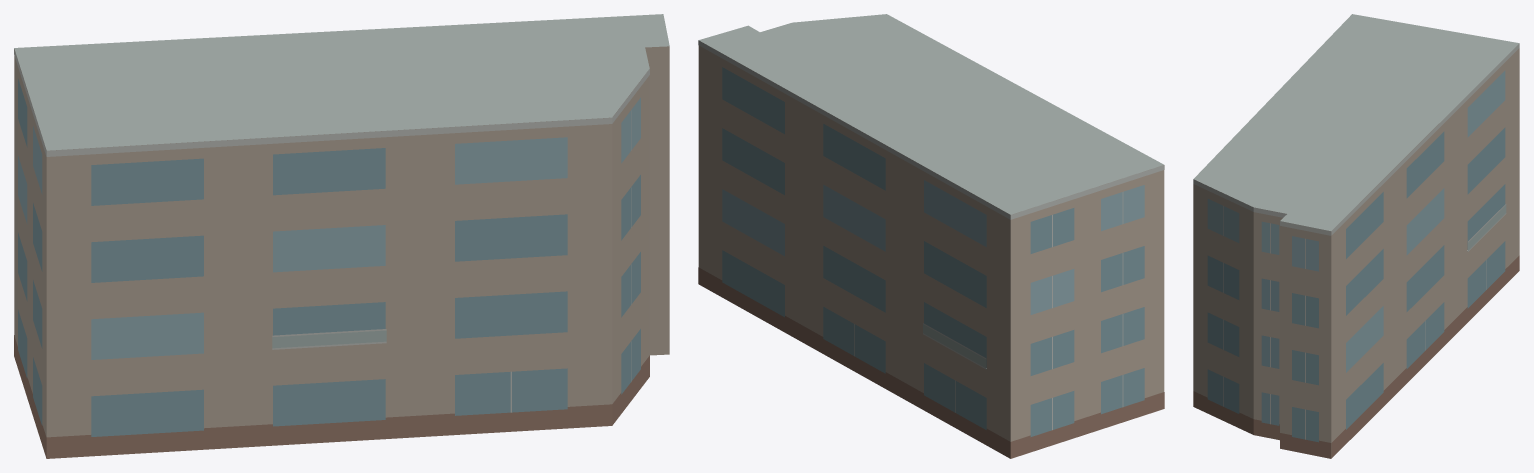
The model's file is survey-upis-32668708.glb.
3 views of the same model, side by side, from view 1: azimuth 30°, elevation 25°; view 2: azimuth 150°, elevation 25°; view 3: azimuth 270°, elevation 25° (orthographic). The views are drawn at different scales.
Parts seen in each view (by area): view 1: survey-upis-32668708.tmp; view 2: survey-upis-32668708.tmp; view 3: survey-upis-32668708.tmp.
Part boxes in pixels (x1,y1,x2,y2): survey-upis-32668708.tmp: (14, 14, 669, 458); survey-upis-32668708.tmp: (698, 14, 1164, 458); survey-upis-32668708.tmp: (1193, 14, 1519, 458).
Bounding box in the file's own units: 24.15 × 11.8 × 15.33.
